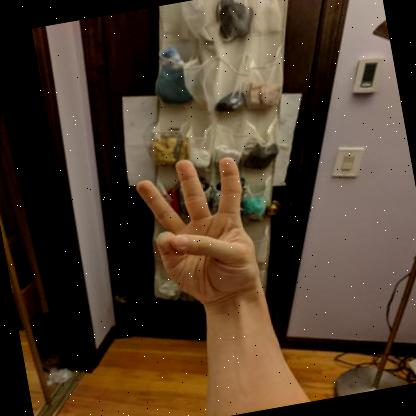W: (135, 156, 264, 305)
